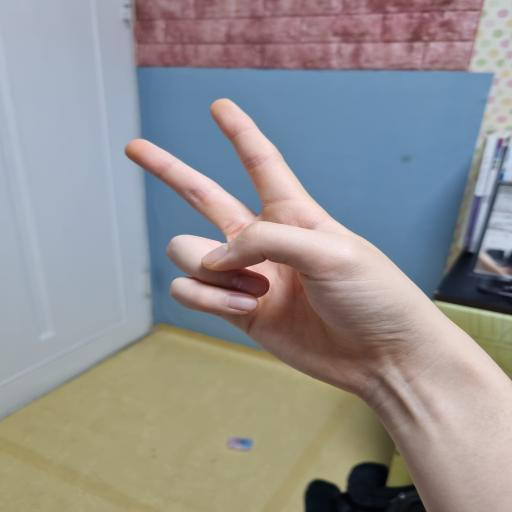Scissors: (123, 98, 450, 407)
